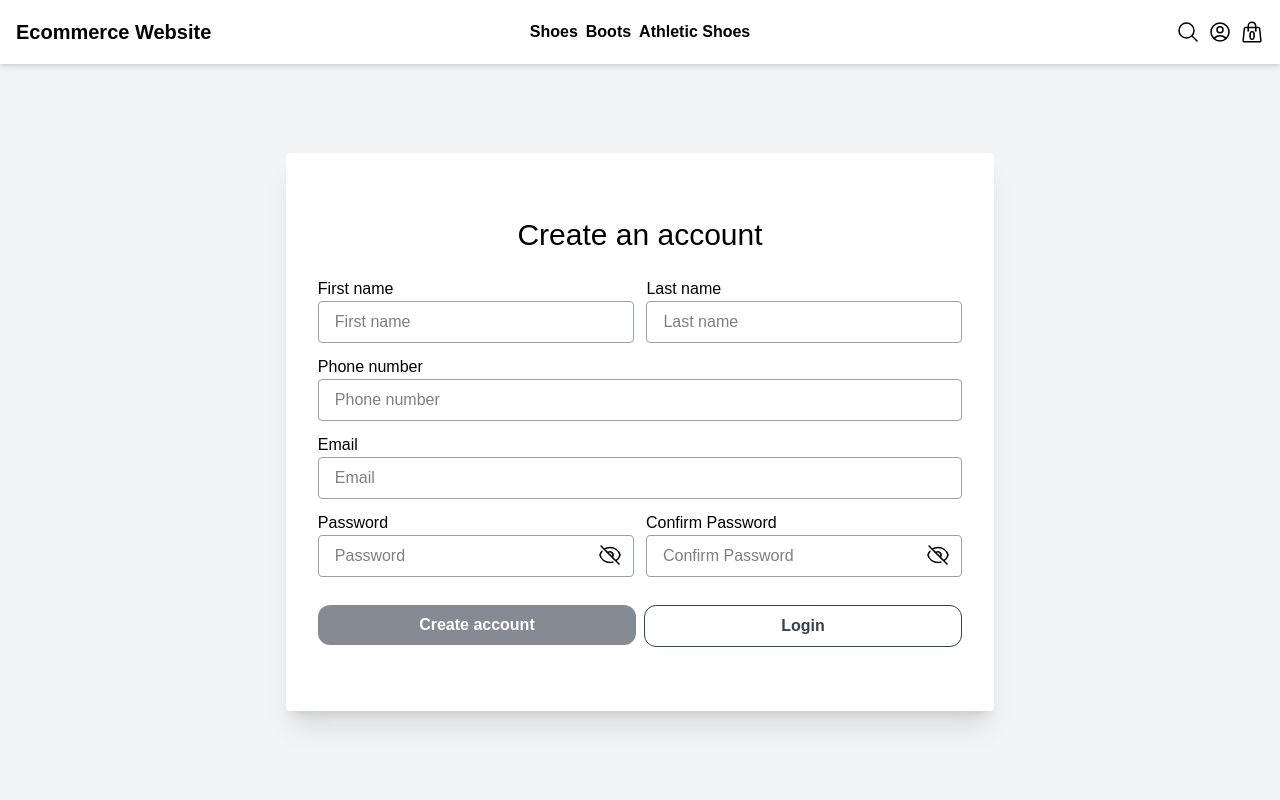
Scenario: Register functionality › should register a user using valid information
The width and height of the screenshot is (1280, 800).
Type "email@test.com" into the field with test id "emailInput".
click(640, 478); type("email@test.com")  # box top-left (318, 457), bottom-right (962, 499)
Type "LastName" into the field with test id "lastNameInput".
click(804, 322); type("LastName")  # box top-left (646, 301), bottom-right (962, 343)
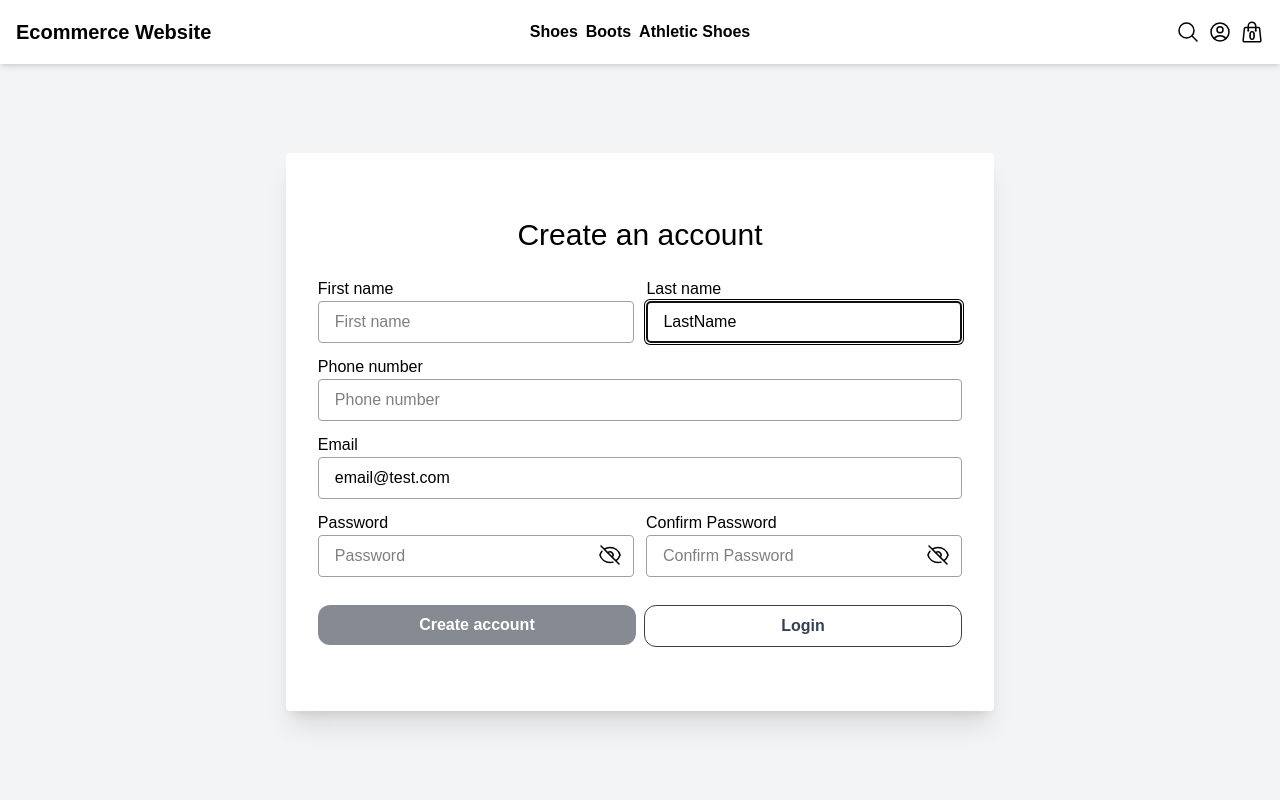
Type "FirstName" into the field with test id "firstNameInput".
click(477, 322); type("FirstName")  # box top-left (318, 301), bottom-right (635, 343)
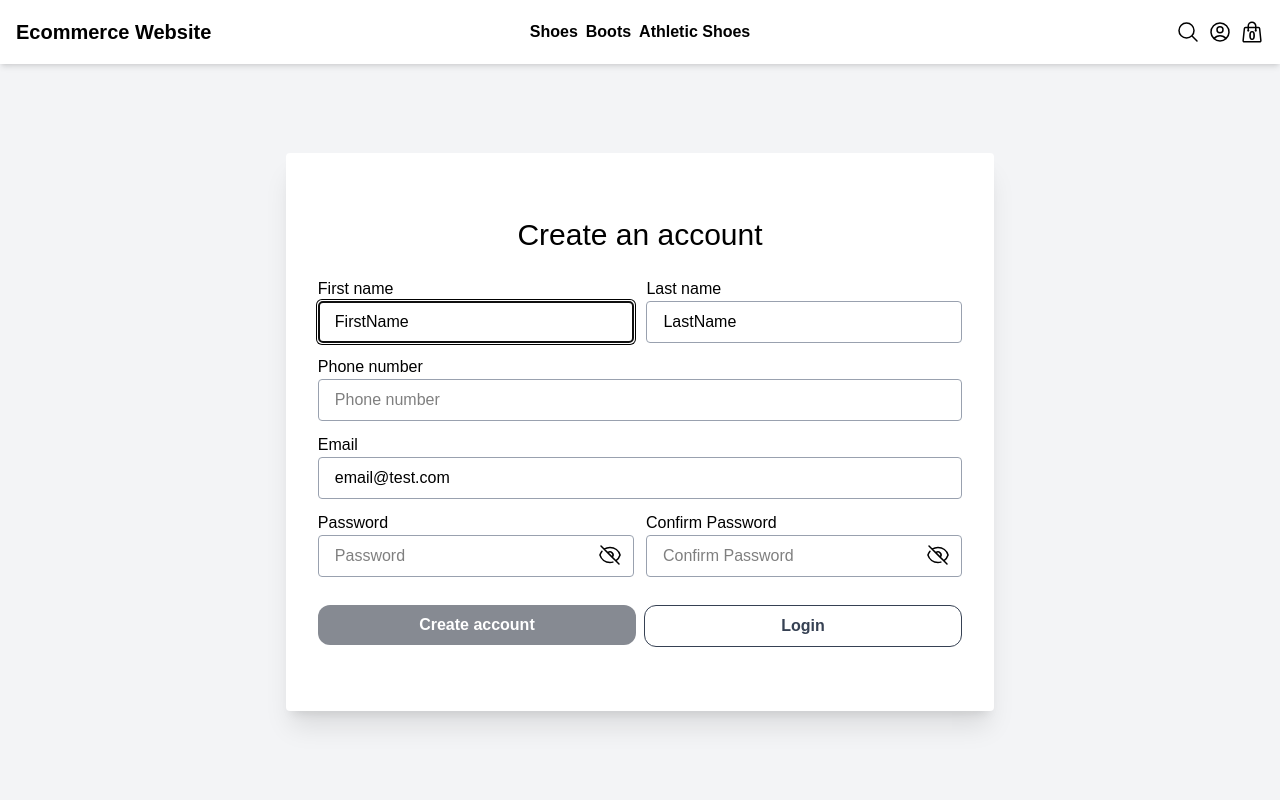
Type "1231231231" into the field with test id "phoneNumberInput".
click(640, 400); type("1231231231")  # box top-left (318, 379), bottom-right (962, 421)
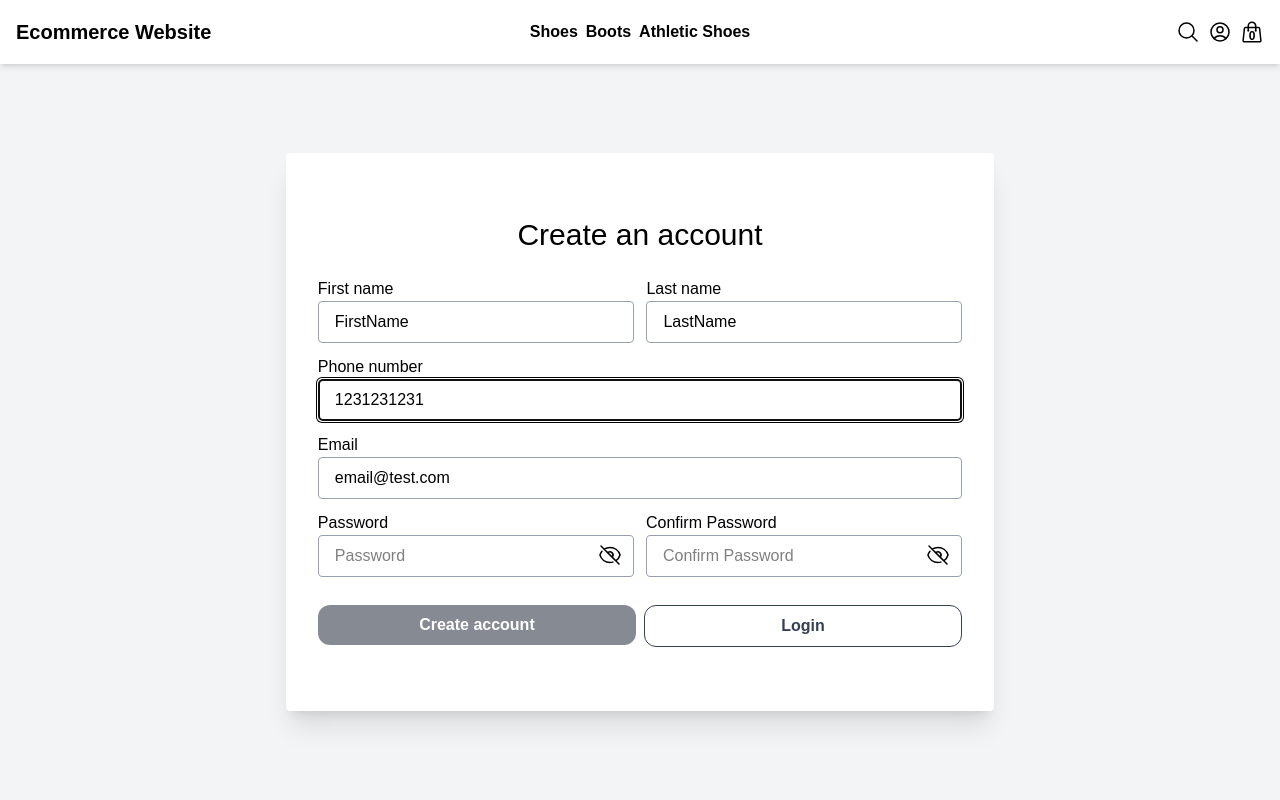
Type "password123123123" into the password field with test id "passwordInput".
click(476, 556); type("password123123123")  # box top-left (318, 535), bottom-right (634, 577)
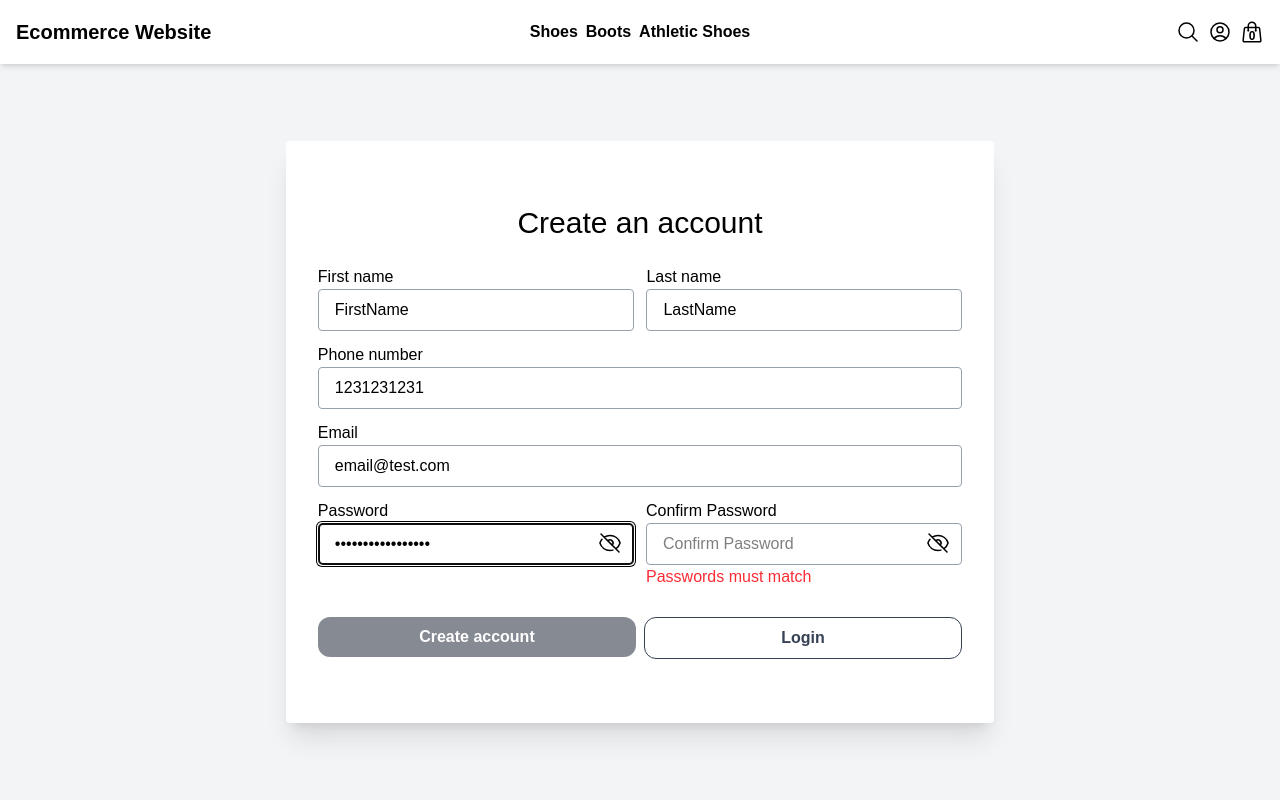
Type "password123123123" into the password field with test id "confirmPasswordInput".
click(804, 544); type("password123123123")  # box top-left (646, 523), bottom-right (962, 565)
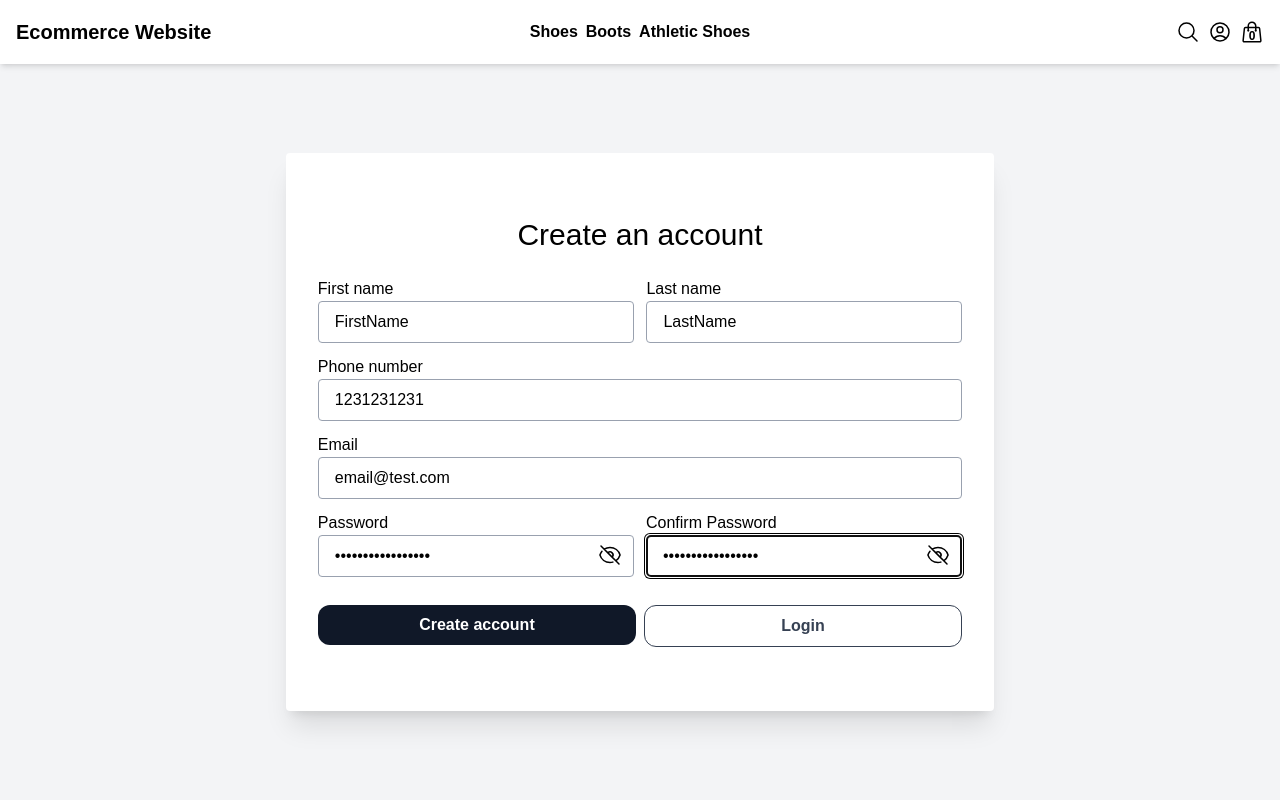
Click the button with test id "createAccountButton".
click(477, 625)  # box top-left (318, 605), bottom-right (636, 645)
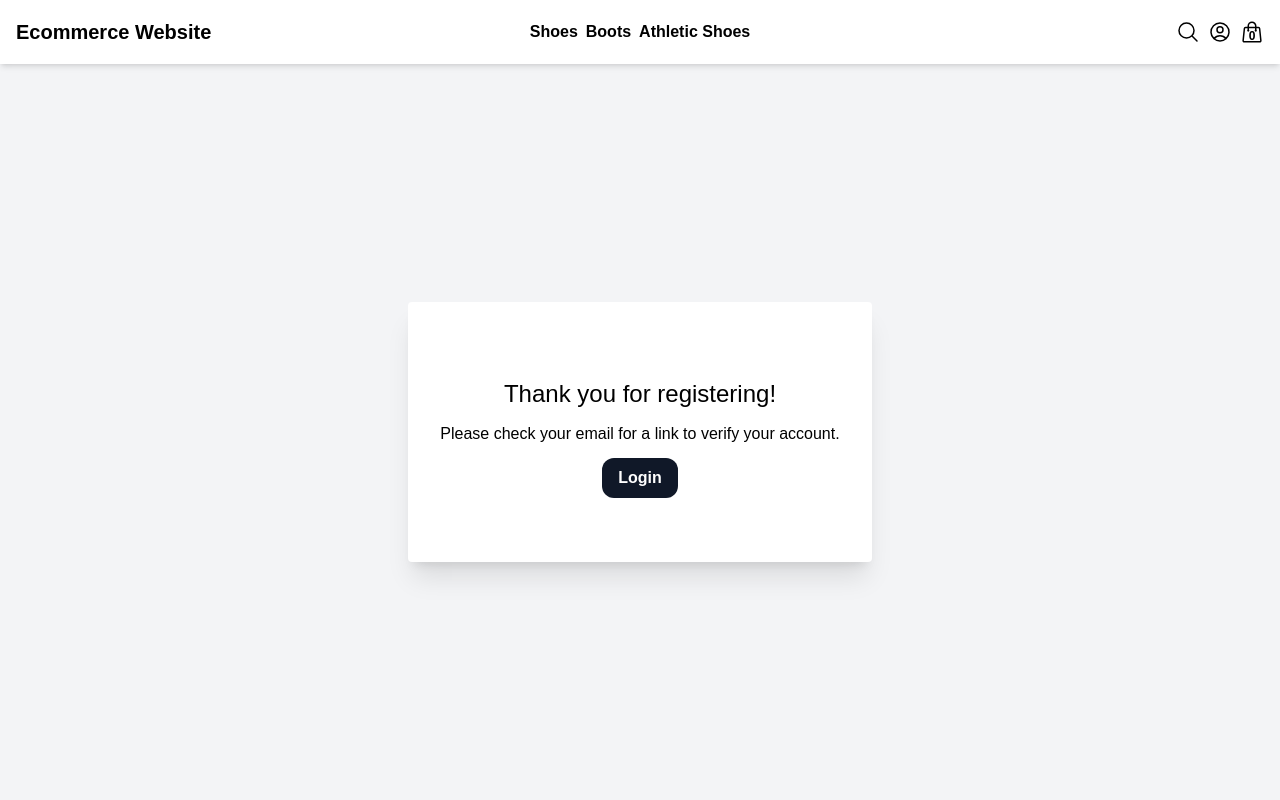
Expected: the element with test id "registerCompleteMessage" is shown, top-left (440, 378), bottom-right (839, 498)
